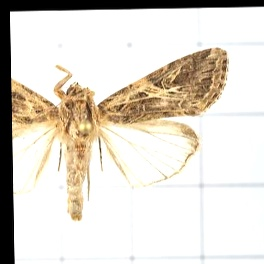Spodoptera litura: (12, 47, 232, 222)
